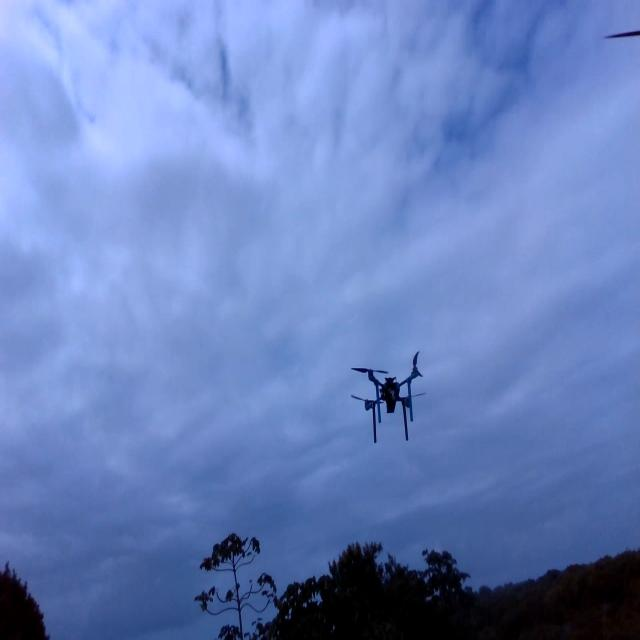-uav-: (343, 350, 432, 440)
